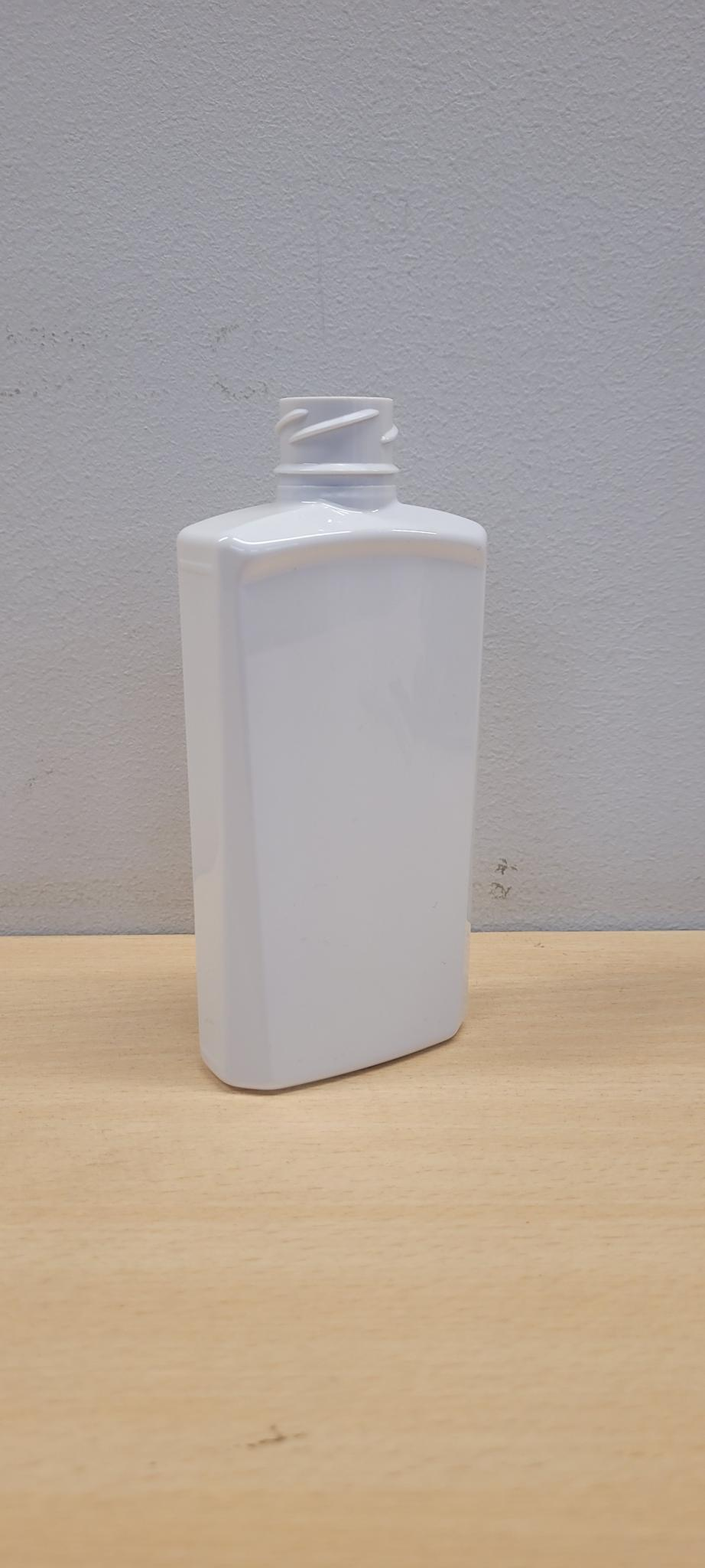bottle: (178, 395, 486, 1090)
